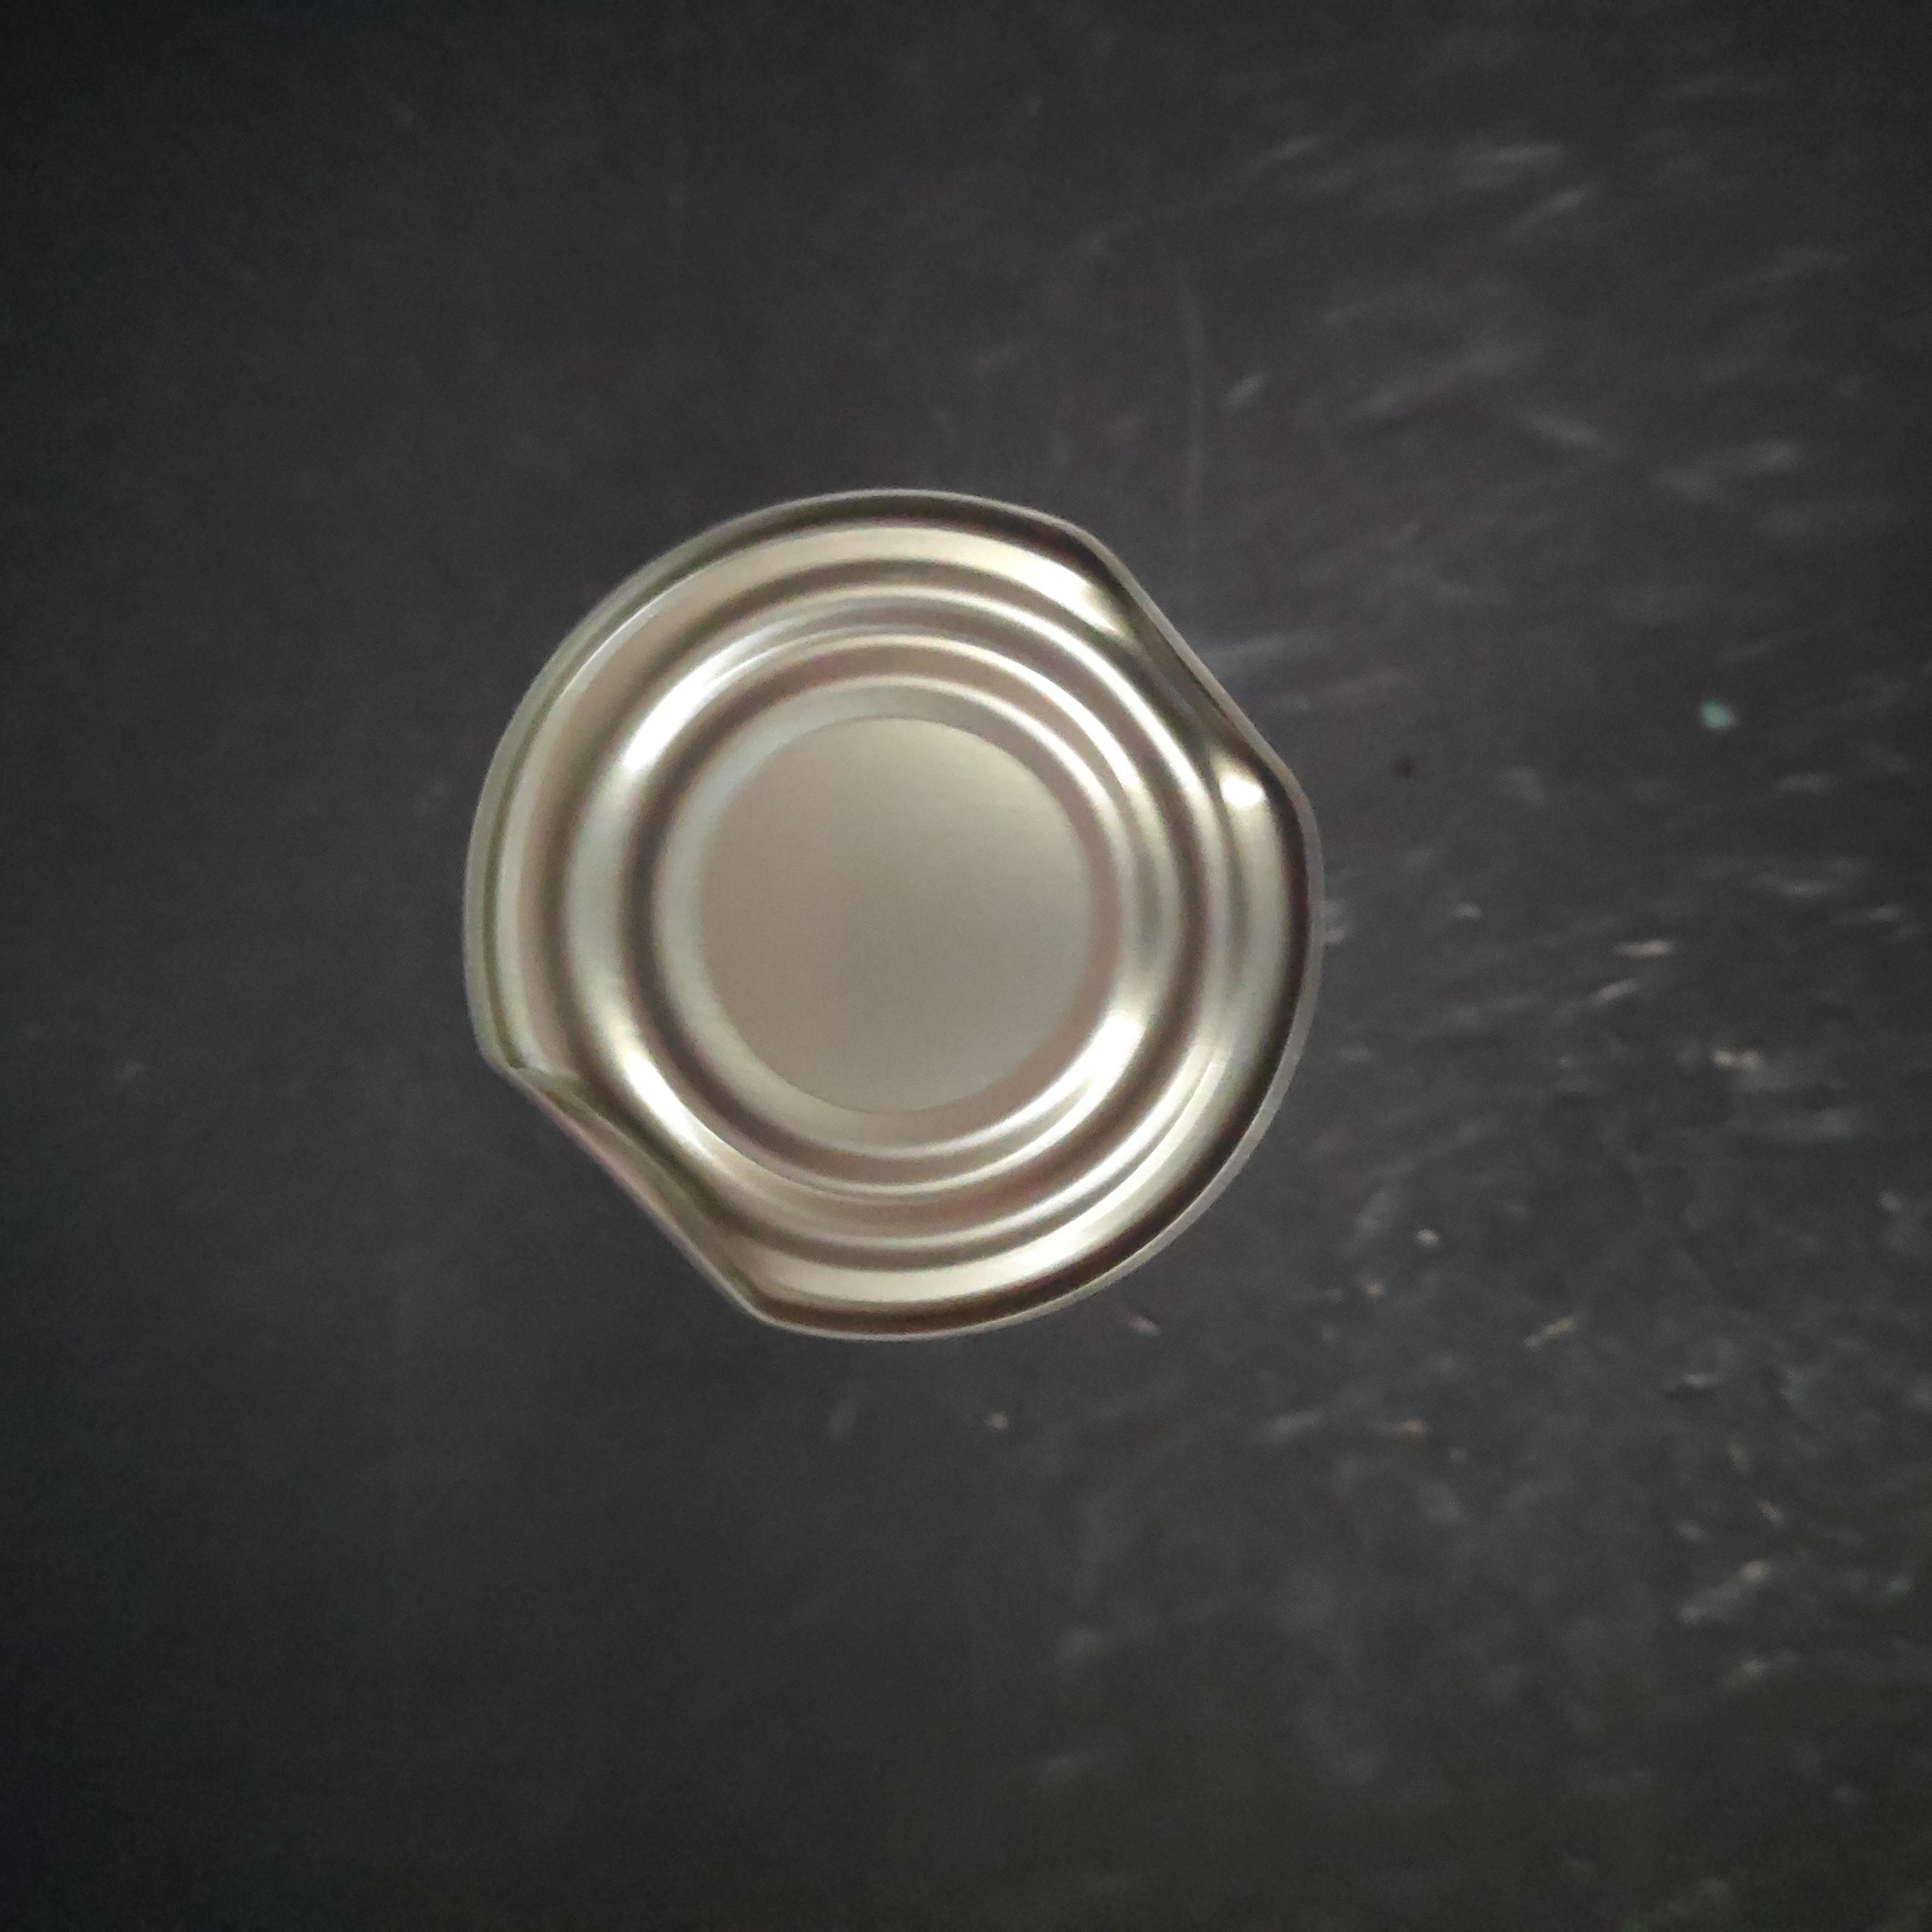Minor Defect: (593, 582, 1488, 1476)
